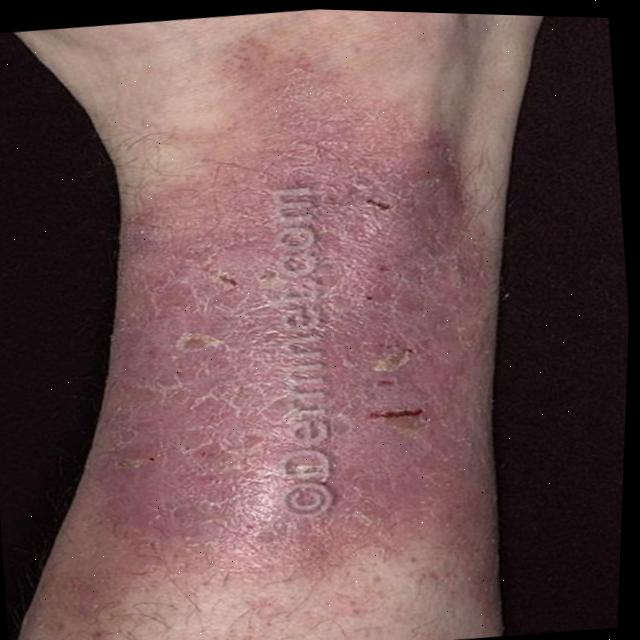Eczema: (47, 76, 539, 577)
